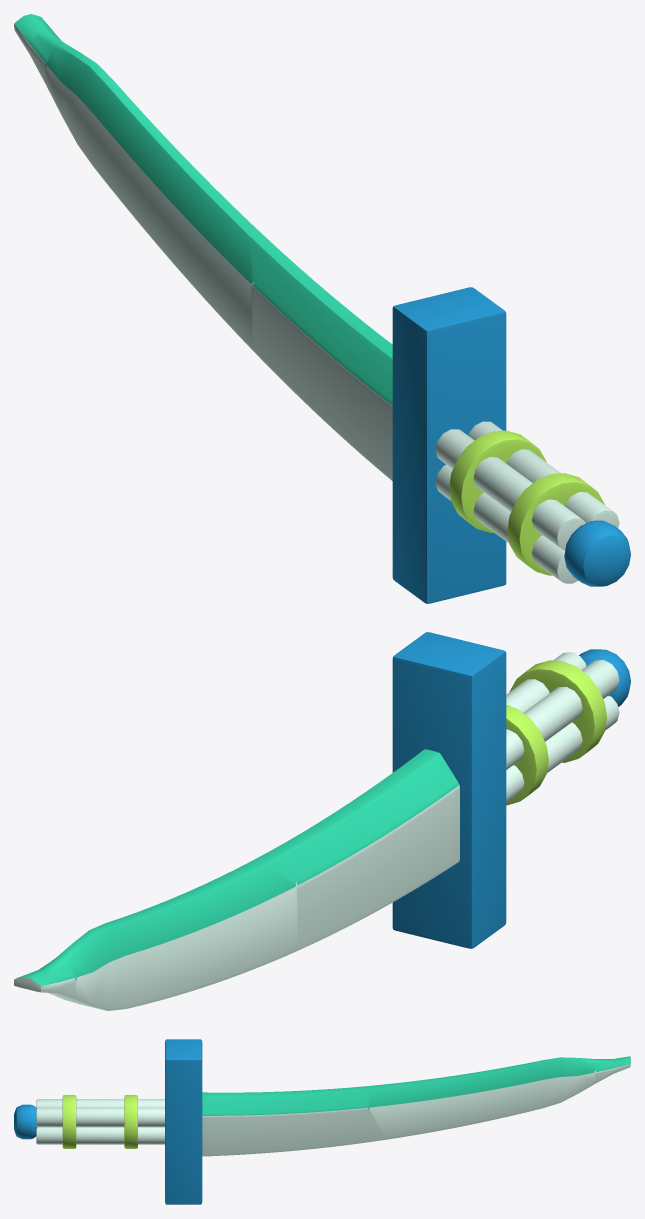
File: Sword_ReedCutter.glb
3 renders of one model, top to bottom at view 1: azimuth 30°, elevation 25°; view 2: azimuth 150°, elevation 25°; view 3: azimuth 270°, elevation 25°, orthographic. The views are drawn at different scales.
Parts seen in each view (by area): view 1: Sword_ReedCutter; view 2: Sword_ReedCutter; view 3: Sword_ReedCutter.
Boxes of the visible parts, box(x1,y1,x2,y2) form: Sword_ReedCutter: box(14, 14, 630, 603); Sword_ReedCutter: box(14, 632, 630, 1010); Sword_ReedCutter: box(14, 1039, 630, 1204).
Size of the model in its own units: 0.088 by 0.26 by 1.
Materials: 1 (1 with a texture image).
